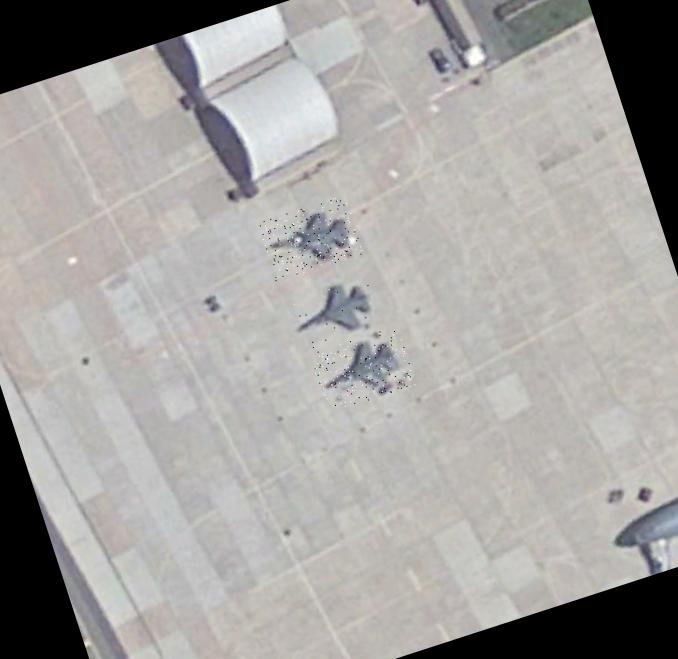A5: (256, 194, 364, 282), (278, 265, 386, 353), (308, 325, 416, 413)
